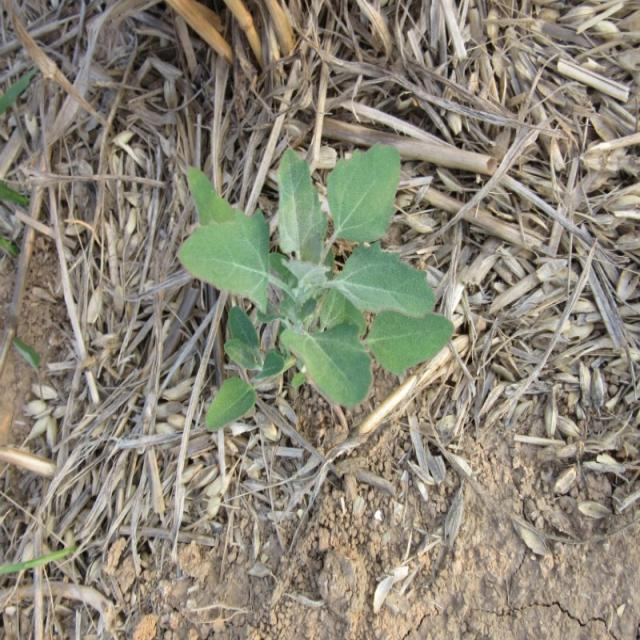ca: (174, 148, 453, 438)
